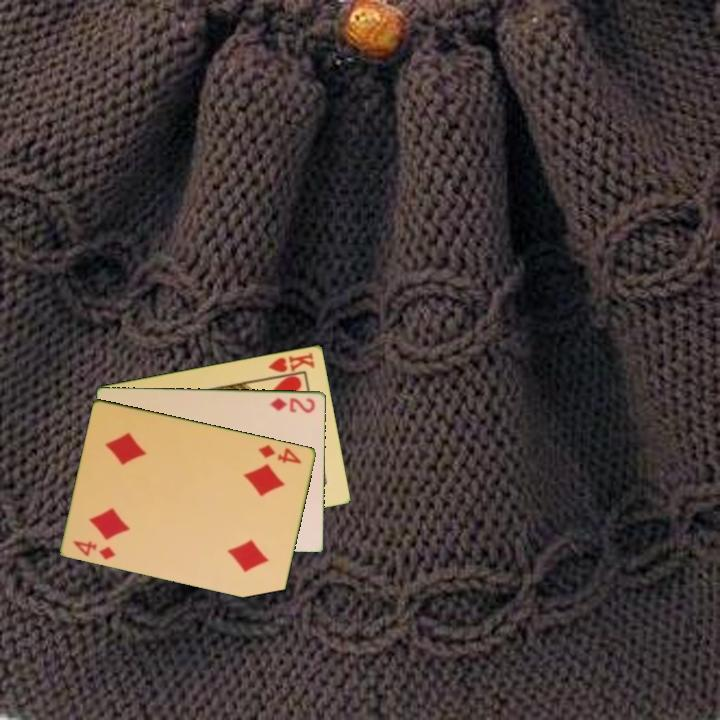2d: (267, 394, 318, 416)
4d: (70, 536, 119, 563), (256, 441, 305, 467)
Kh: (264, 348, 318, 380)
